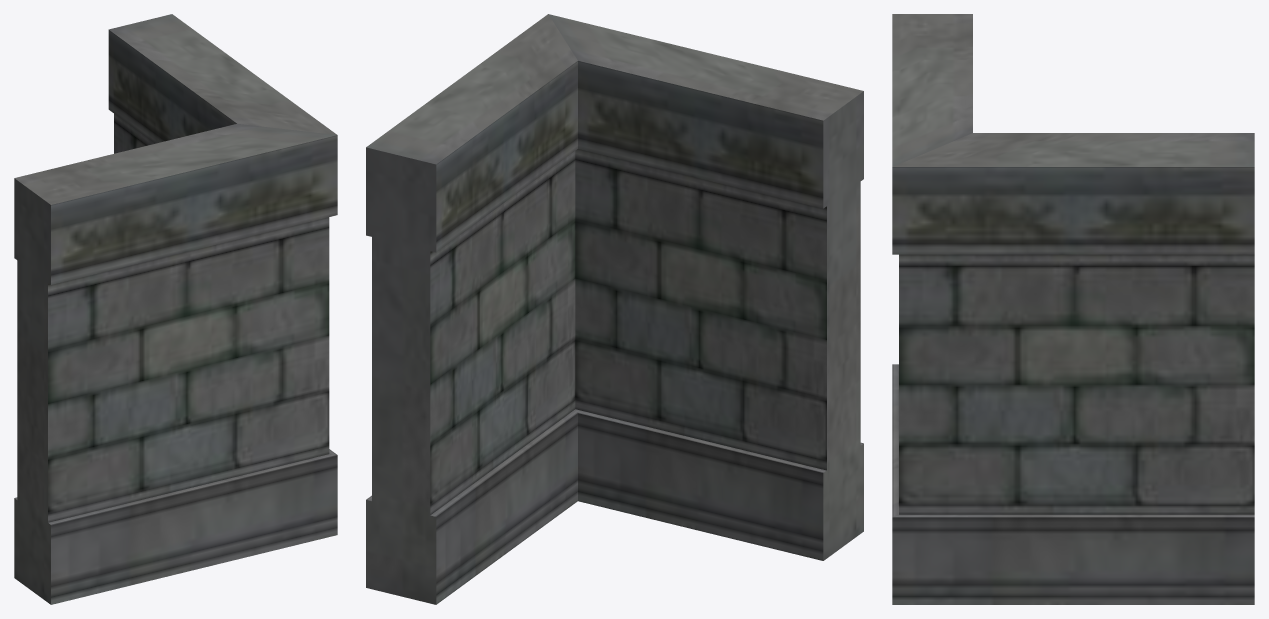
File: sd_wall_small_corner_01.glb
The picture shows the model from 3 angles, left to right: view 1: azimuth 30°, elevation 25°; view 2: azimuth 150°, elevation 25°; view 3: azimuth 270°, elevation 25°; orthographic projection. The views are drawn at different scales.
Visible parts, largest first — view 1: wall_small_corner_01; view 2: wall_small_corner_01; view 3: wall_small_corner_01.
Part boxes in pixels (box(x1,y1,x2,y2)): wall_small_corner_01: box(14, 14, 337, 604); wall_small_corner_01: box(366, 14, 863, 604); wall_small_corner_01: box(892, 14, 1254, 604).
Size of the model in its own units: 2.25 by 3 by 2.25.
1 material, 1 textured.
